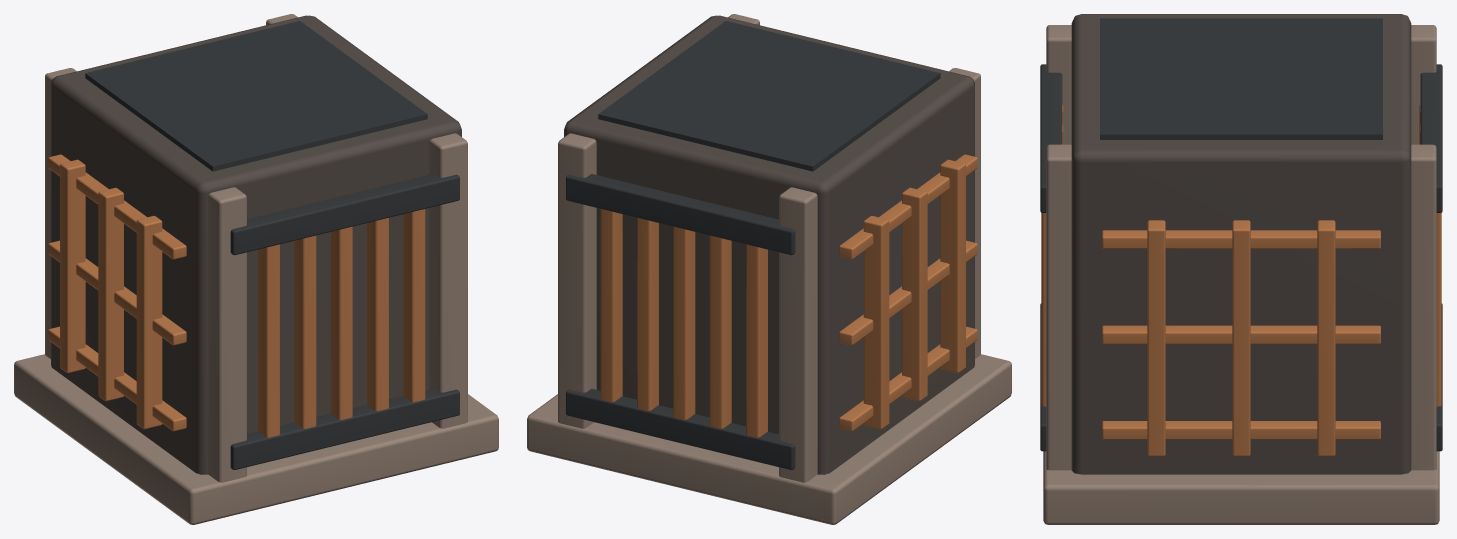
Rendered from refinery-base-1.glb.
3 views of the same model, side by side, from view 1: azimuth 30°, elevation 25°; view 2: azimuth 150°, elevation 25°; view 3: azimuth 270°, elevation 25° (orthographic). The views are drawn at different scales.
Visible parts, largest first — view 1: refinery_0, refinery_1, refinery_2, refinery_3; view 2: refinery_0, refinery_1, refinery_2, refinery_3; view 3: refinery_0, refinery_1, refinery_2, refinery_3.
Boxes of the visible parts, bbox=[...] form: refinery_0: bbox=[51, 15, 461, 474]; refinery_1: bbox=[14, 14, 498, 524]; refinery_2: bbox=[85, 21, 459, 469]; refinery_3: bbox=[48, 154, 425, 437]; refinery_0: bbox=[564, 15, 974, 474]; refinery_1: bbox=[527, 14, 1011, 524]; refinery_2: bbox=[566, 21, 940, 469]; refinery_3: bbox=[600, 154, 977, 437]; refinery_0: bbox=[1071, 14, 1411, 474]; refinery_1: bbox=[1043, 25, 1439, 524]; refinery_2: bbox=[1040, 18, 1442, 451]; refinery_3: bbox=[1041, 104, 1441, 456].
Size of the model in its own units: 0.98 by 1 by 0.995.
